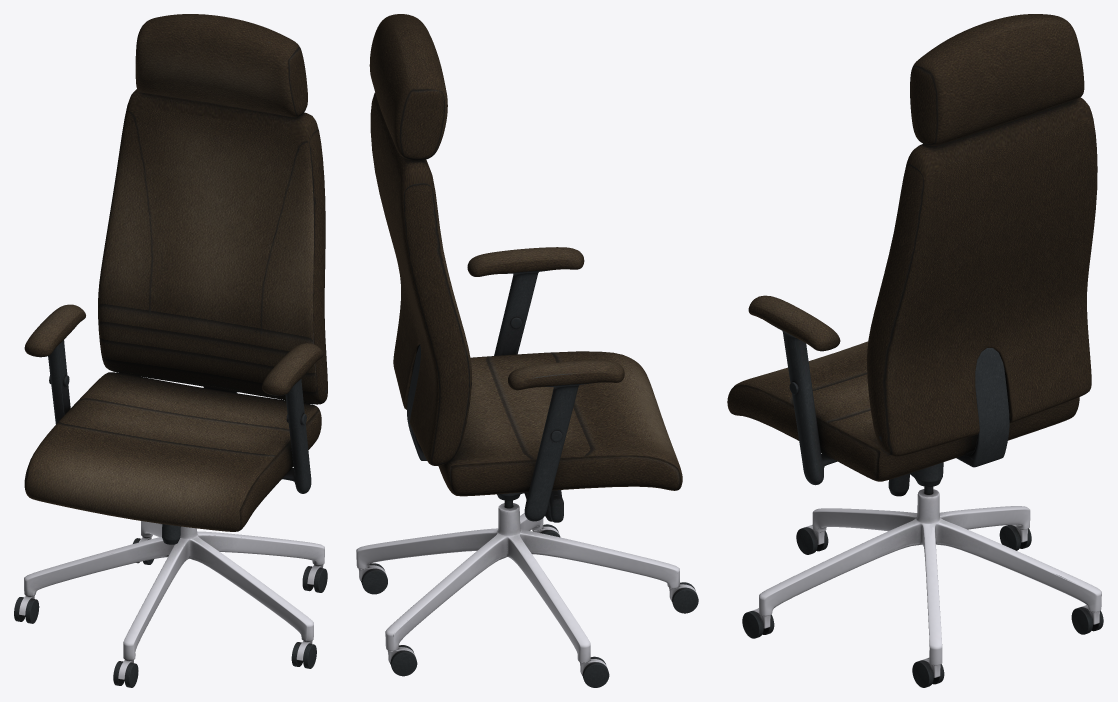
The model's file is chair.glb.
3 renders of one model, left to right at view 1: azimuth 30°, elevation 25°; view 2: azimuth 150°, elevation 25°; view 3: azimuth 270°, elevation 25°, orthographic. The views are drawn at different scales.
Parts seen in each view (by area): view 1: 10239_Office_Chair_v1_L3; view 2: 10239_Office_Chair_v1_L3; view 3: 10239_Office_Chair_v1_L3.
Boxes of the visible parts, bbox=[...] form: 10239_Office_Chair_v1_L3: bbox=[14, 14, 327, 687]; 10239_Office_Chair_v1_L3: bbox=[356, 14, 698, 687]; 10239_Office_Chair_v1_L3: bbox=[727, 14, 1103, 687].
Bounding box in the file's own units: 2.05 × 3.66 × 1.99.
1 material, 1 textured.
